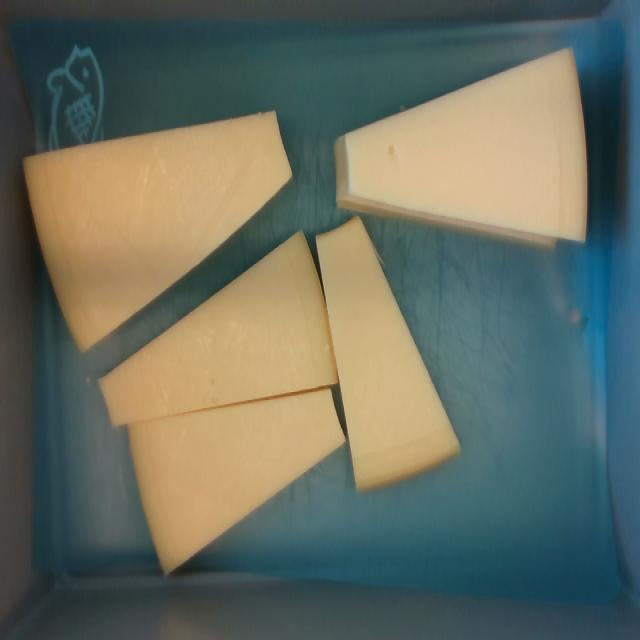Cheese: (25, 112, 291, 349), (345, 46, 587, 242), (98, 230, 338, 427), (129, 389, 348, 575), (318, 219, 456, 487)
